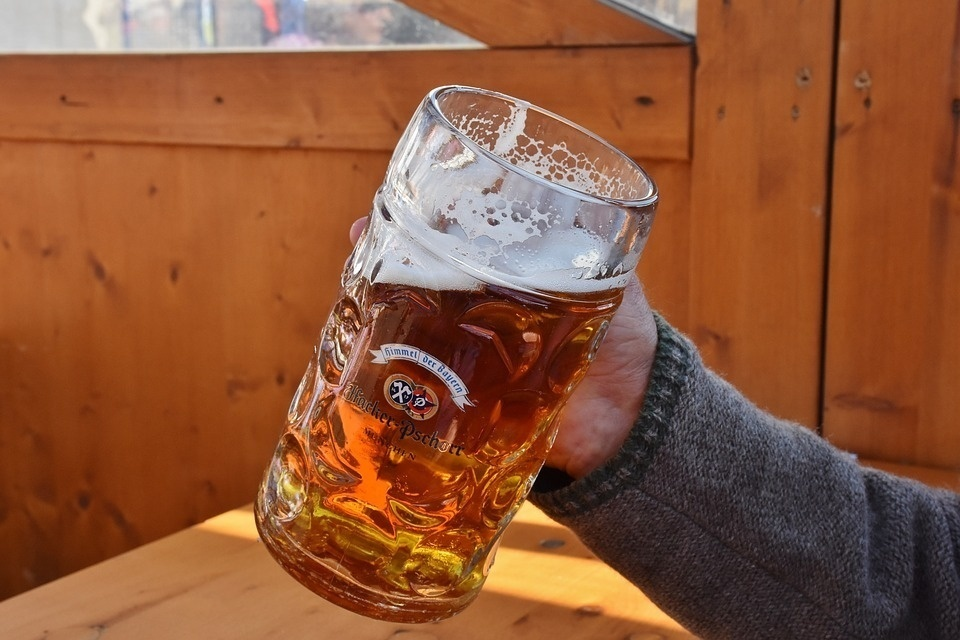whiskey: (253, 85, 658, 616)
